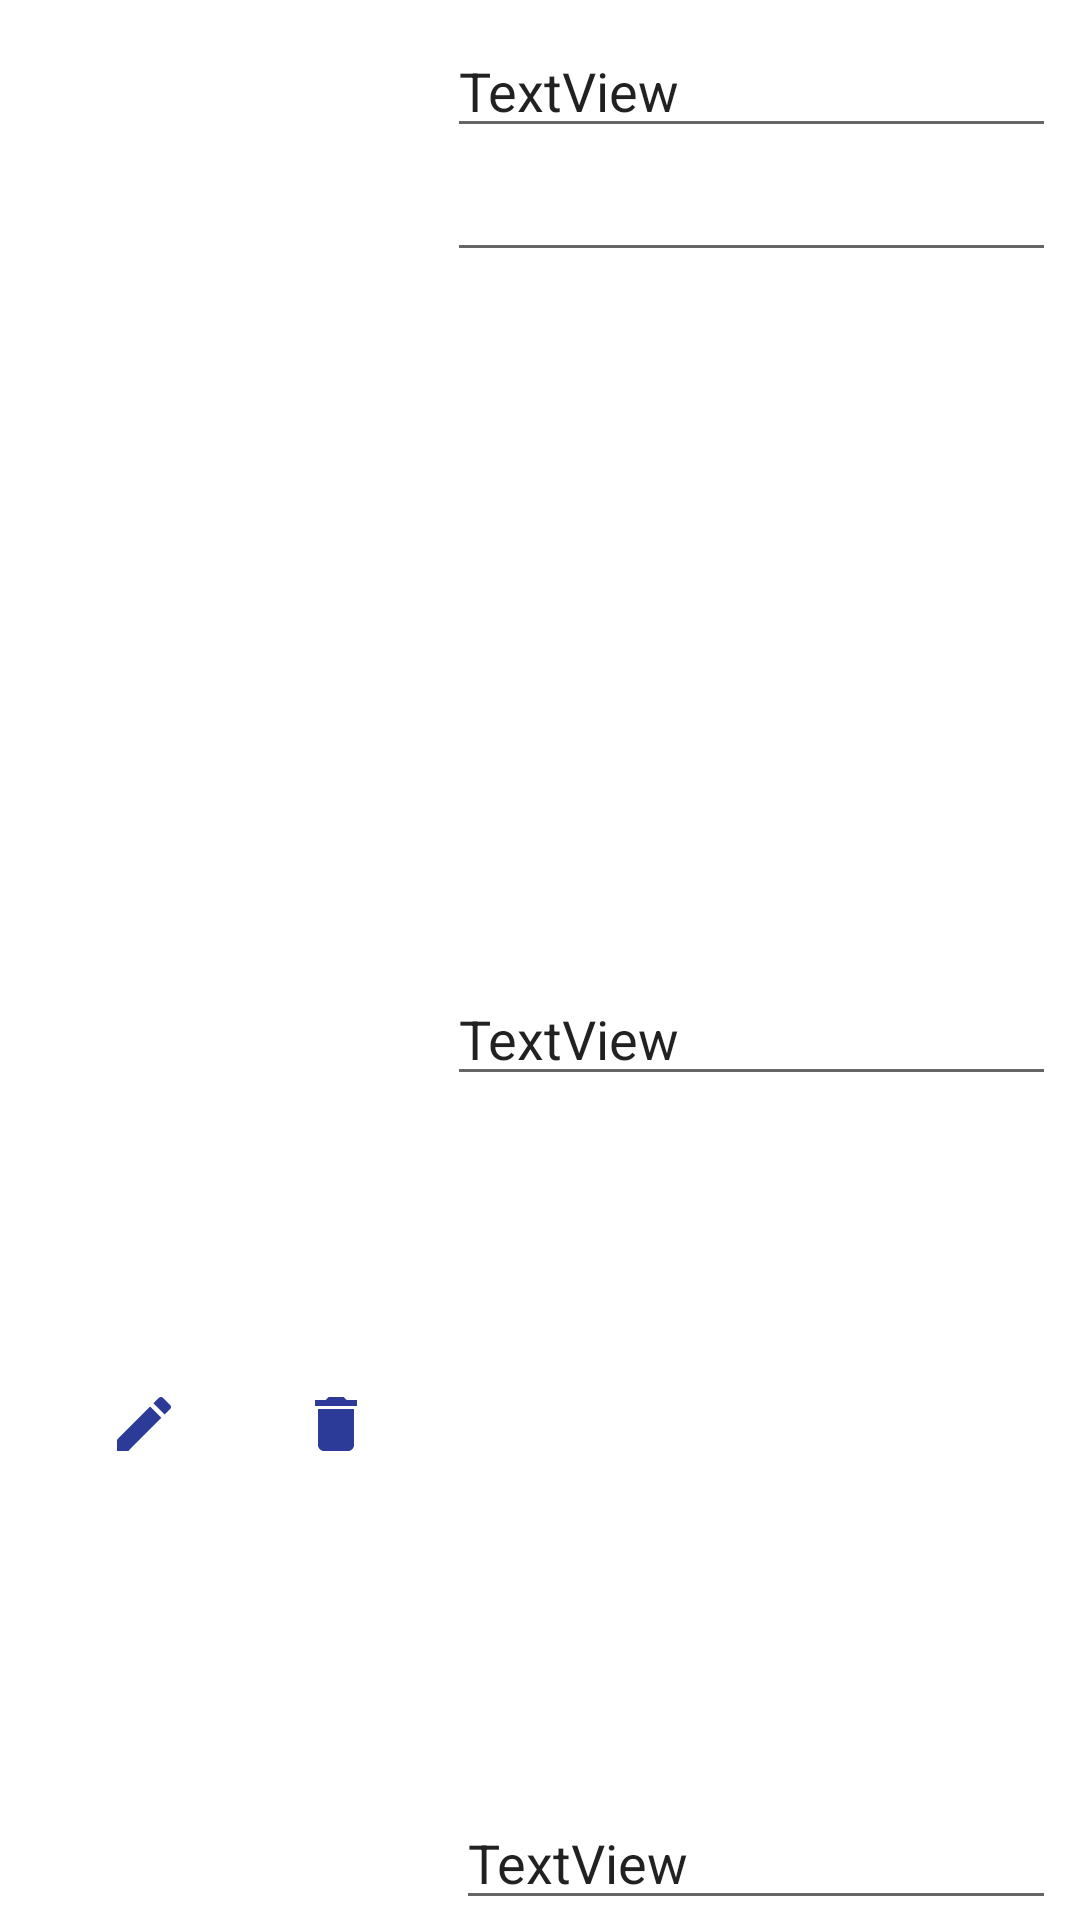

Named icons in this screenshot (1080×1920) and their bounding boxes, bbox(x1, y1, x2, y2):
delete: bbox(315, 1397, 357, 1451)
edit: bbox(117, 1397, 171, 1451)
